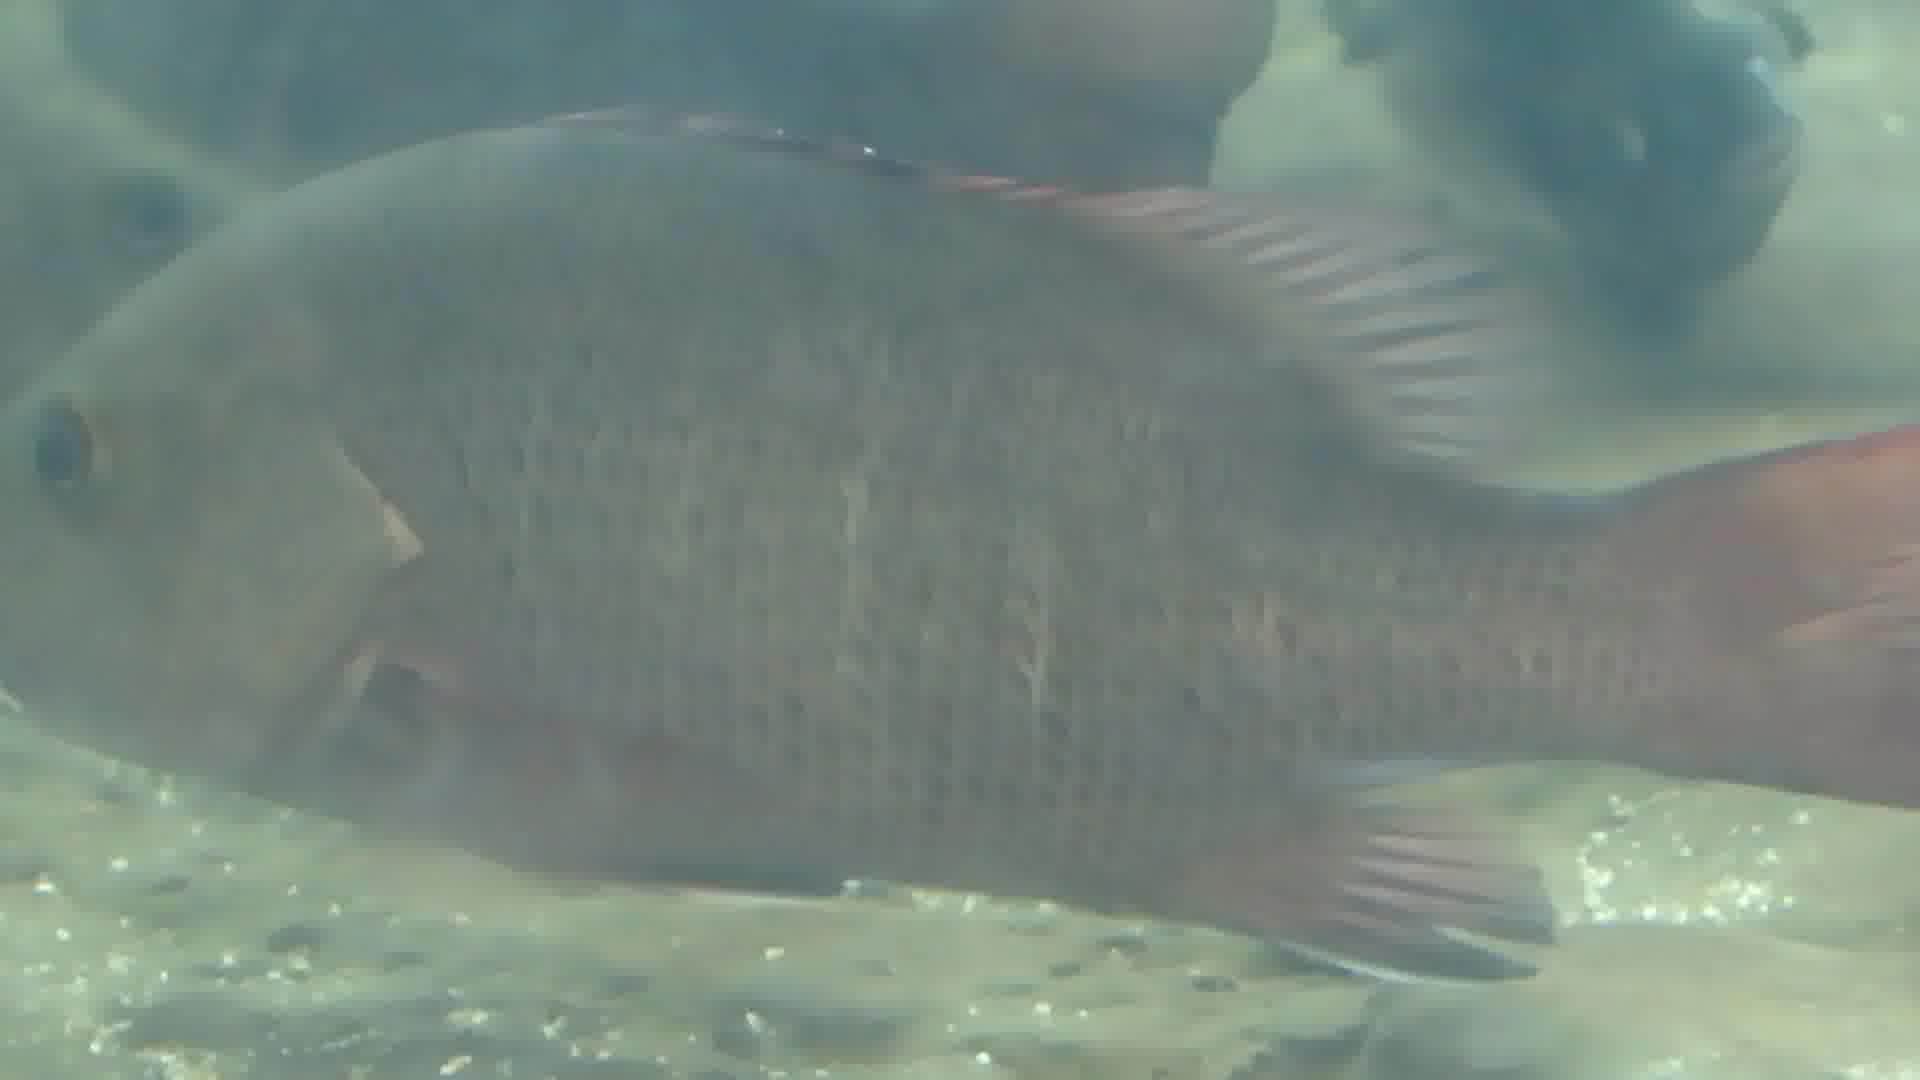Lutjanus argentimaculatus: (18, 123, 1832, 967)
